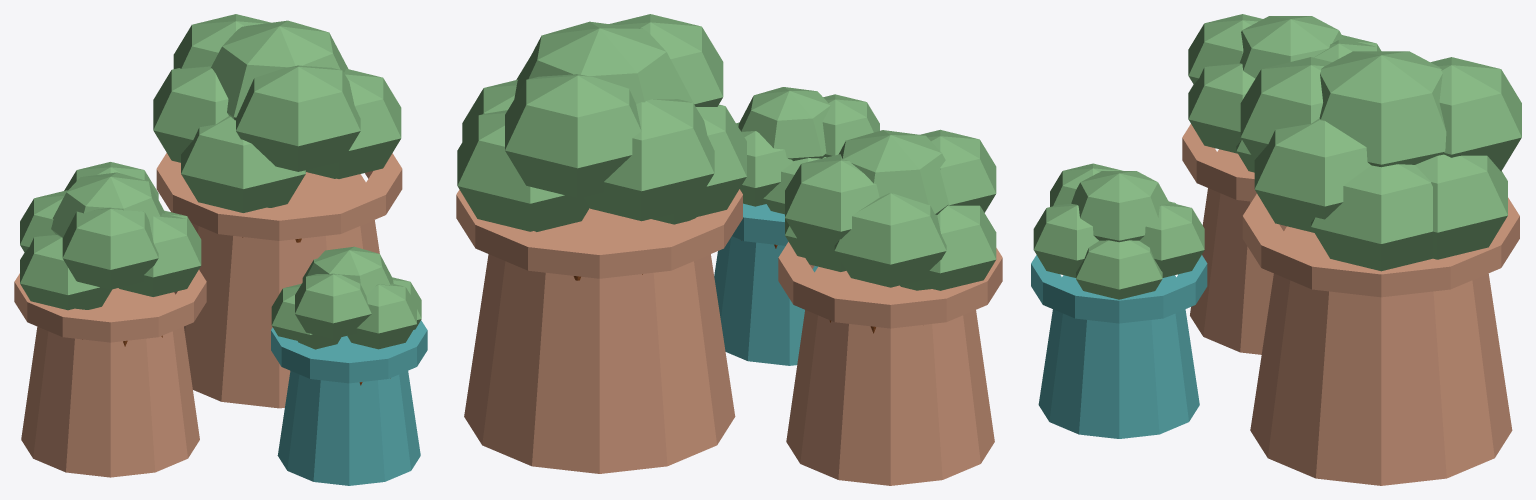
Rendered from indian-bazaar-street-and-temple-potted-plant-group-f4a7cda5.glb.
The picture shows the model from 3 angles, left to right: view 1: azimuth 30°, elevation 25°; view 2: azimuth 150°, elevation 25°; view 3: azimuth 270°, elevation 25°; orthographic projection. The views are drawn at different scales.
Visible parts, largest first — view 1: potted-plant-group-leaf, potted-plant-group-terracotta, potted-plant-group-teal; view 2: potted-plant-group-terracotta, potted-plant-group-leaf, potted-plant-group-teal; view 3: potted-plant-group-leaf, potted-plant-group-terracotta, potted-plant-group-teal.
Boxes of the visible parts, bbox=[...] form: potted-plant-group-leaf: bbox=[20, 14, 421, 349]; potted-plant-group-terracotta: bbox=[14, 153, 402, 477]; potted-plant-group-teal: bbox=[271, 320, 427, 485]; potted-plant-group-terracotta: bbox=[456, 189, 1002, 485]; potted-plant-group-leaf: bbox=[457, 14, 996, 290]; potted-plant-group-teal: bbox=[714, 203, 817, 365]; potted-plant-group-leaf: bbox=[1033, 14, 1521, 299]; potted-plant-group-terracotta: bbox=[1182, 124, 1519, 485]; potted-plant-group-teal: bbox=[1031, 255, 1207, 438].
Bounding box in the file's own units: 1.08 × 0.8217 × 0.9741.
4 materials, 1 textured.
